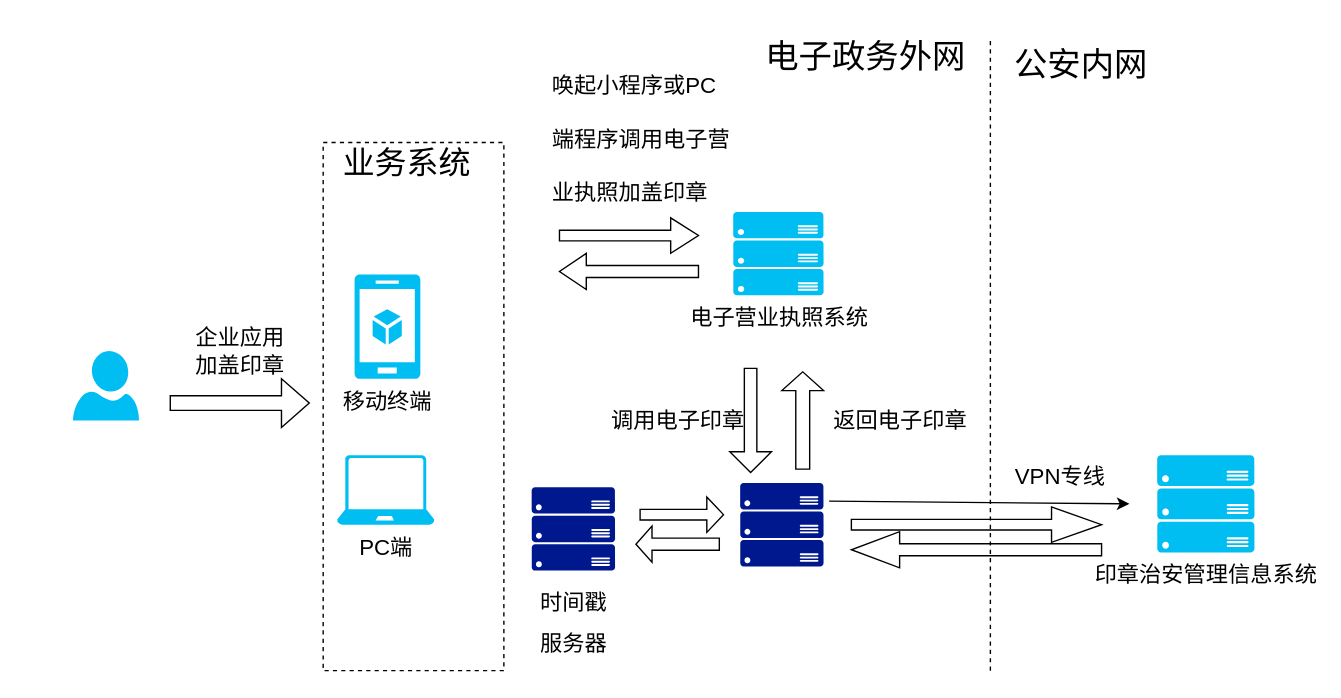
This 1341x698 diagram has some shape labels left out. The centre of each missing label's shape, as x and y in pixels:
"企业应用操作人" belongs at pixel 105 385.
"电子印章 备案服务器" belongs at pixel 781 524.
